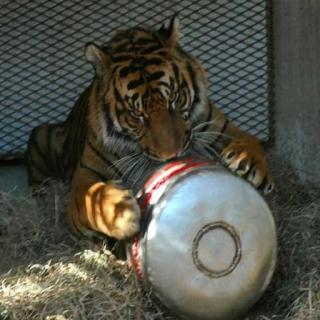Tiger: (22, 9, 290, 236)
